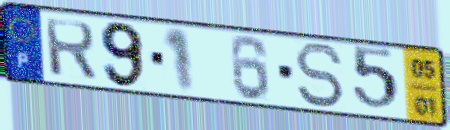1: (161, 27, 197, 96)
5: (349, 44, 402, 117)
6: (228, 33, 272, 103)
9: (98, 20, 150, 90)
R: (42, 16, 100, 83)
S: (292, 41, 346, 111)
